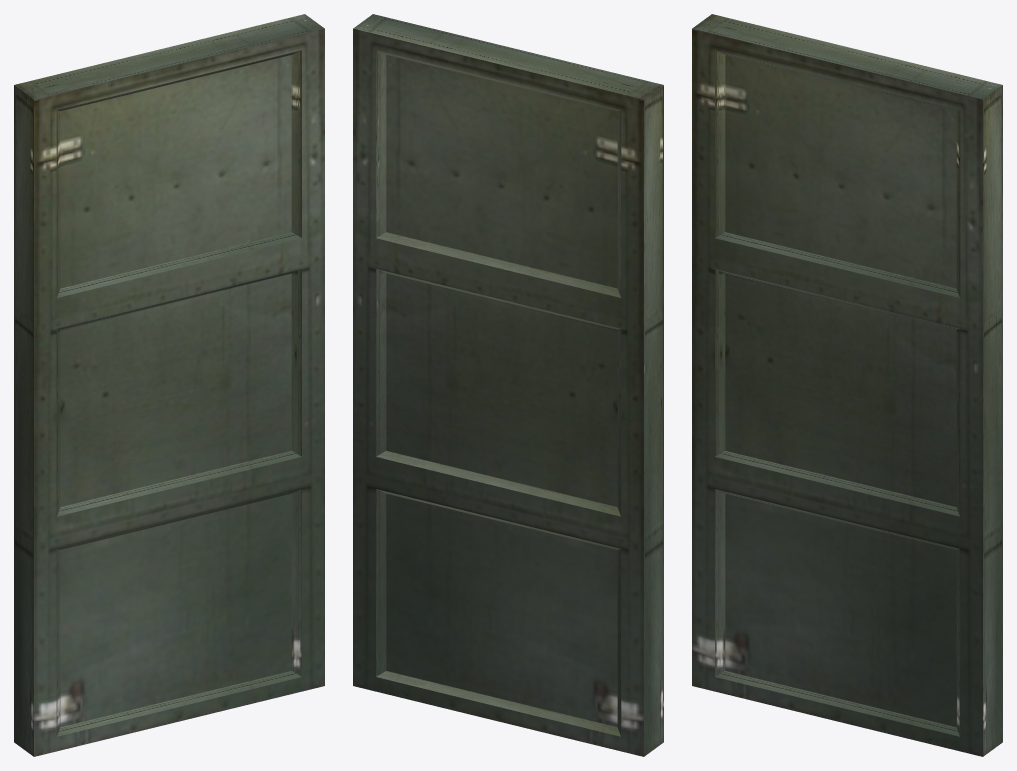
File: Porte1.glb
The picture shows the model from 3 angles, left to right: view 1: azimuth 30°, elevation 25°; view 2: azimuth 150°, elevation 25°; view 3: azimuth 330°, elevation 25°; orthographic projection.
Parts seen in each view (by area): view 1: Porte1; view 2: Porte1; view 3: Porte1.
Part boxes in pixels (<box>): Porte1: <box>14,14,324,756</box>; Porte1: <box>353,14,663,756</box>; Porte1: <box>692,14,1002,756</box>.
Size of the model in its own units: 0.8713 by 1.88 by 0.1034.
1 material, 1 textured.
